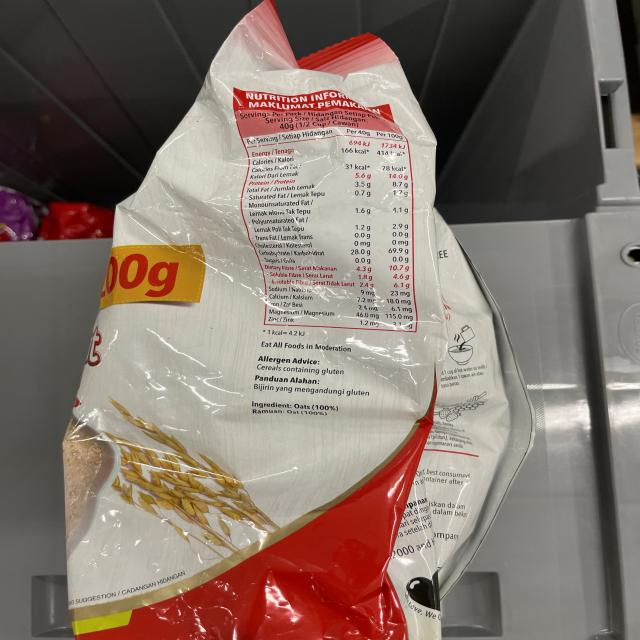object_name: (137, 70, 434, 630)
